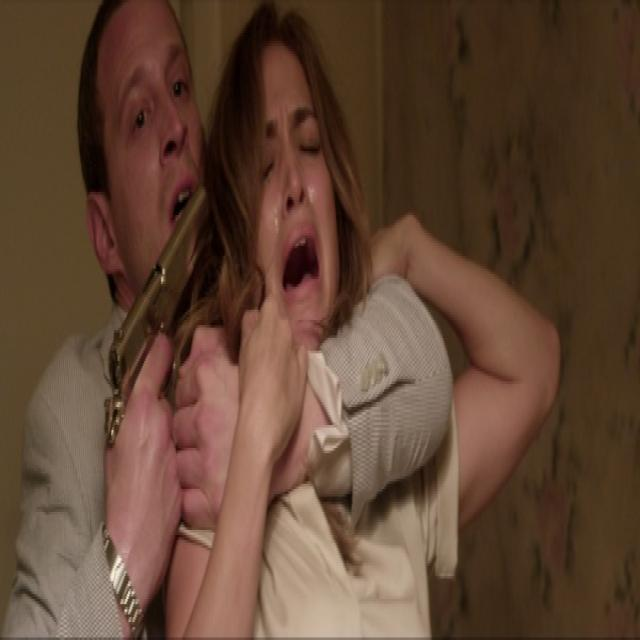weapons: (97, 160, 213, 503)
